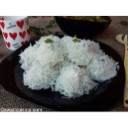idiyappam: (22, 53, 57, 90), (89, 48, 121, 81), (58, 65, 91, 96), (63, 32, 96, 63), (39, 33, 65, 60)
